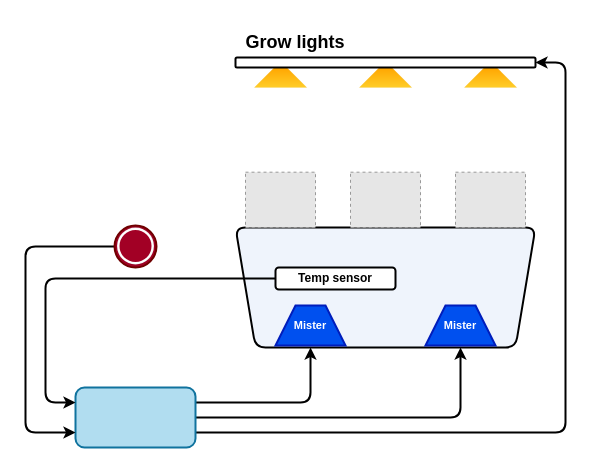
Some shapes in this 591 by 466 pixel diagram are drawn without their labels. Grey dashed boxes stand in for pictures. The shapes that lost their labels are listed below. From the top down, each one's centre as x and y in pixels, then its label:
(135,246): LDR
(135,417): Controller
